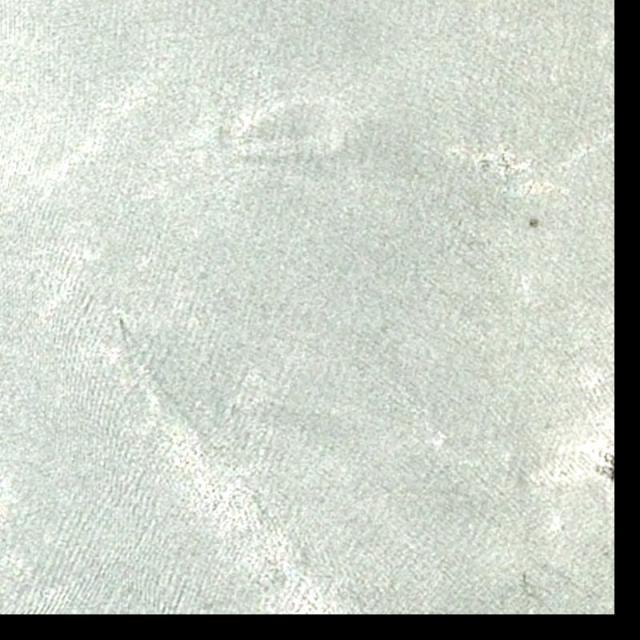ship: (119, 318, 125, 326)
